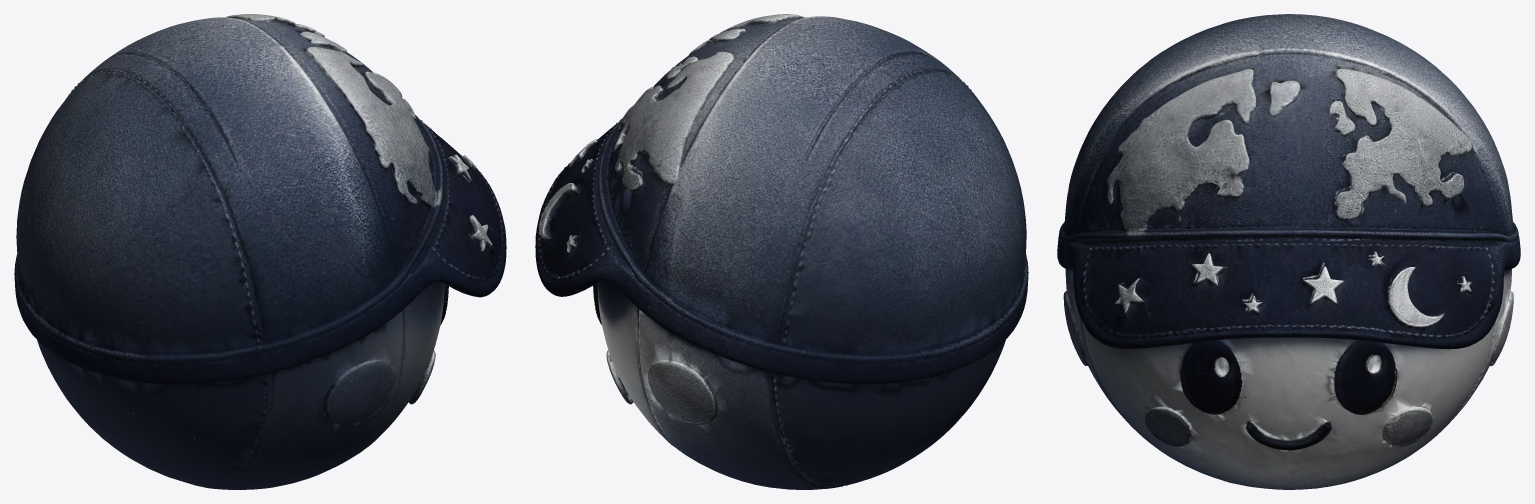
Rendered from mascot-mobile.glb.
3 views of the same model, side by side, from view 1: azimuth 30°, elevation 25°; view 2: azimuth 150°, elevation 25°; view 3: azimuth 270°, elevation 25° (orthographic).
Visible parts, largest first — view 1: tripo_node_3ce623b1-4f4f-4fd8-9f63-6319bf357a53; view 2: tripo_node_3ce623b1-4f4f-4fd8-9f63-6319bf357a53; view 3: tripo_node_3ce623b1-4f4f-4fd8-9f63-6319bf357a53.
Boxes of the visible parts, <box> form: tripo_node_3ce623b1-4f4f-4fd8-9f63-6319bf357a53: <box>14,14,506,489</box>; tripo_node_3ce623b1-4f4f-4fd8-9f63-6319bf357a53: <box>535,14,1028,489</box>; tripo_node_3ce623b1-4f4f-4fd8-9f63-6319bf357a53: <box>1057,14,1520,489</box>.
Size of the model in its own units: 0.9798 by 0.954 by 0.9179.
Materials: 1 (1 with a texture image).
